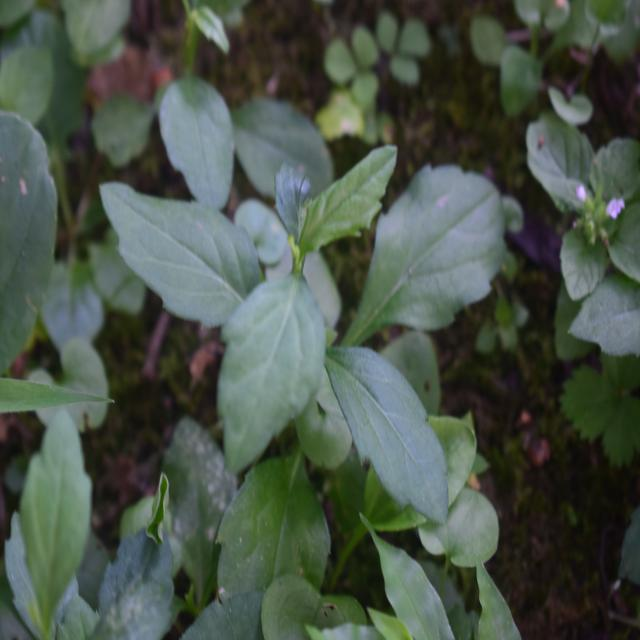Indian aster: (138, 127, 458, 505)
